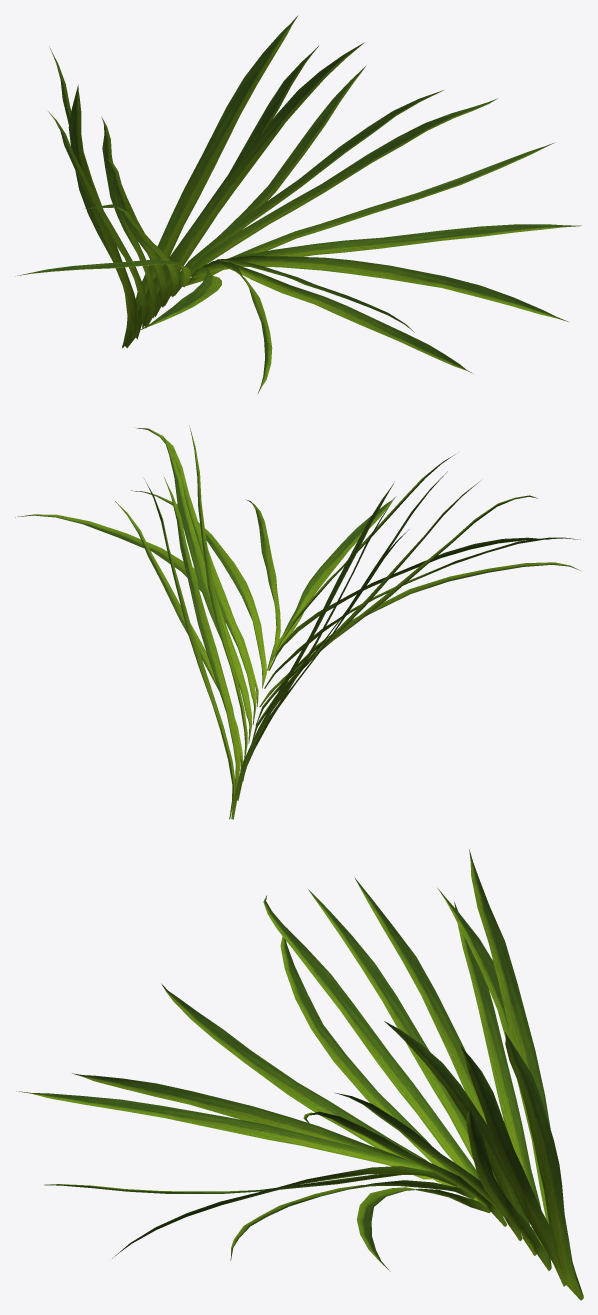
The model's file is tree on treee.fbx.
The picture shows the model from 3 angles, top to bottom: view 1: azimuth 30°, elevation 25°; view 2: azimuth 150°, elevation 25°; view 3: azimuth 270°, elevation 25°; orthographic projection. The views are drawn at different scales.
Parts seen in each view (by area): view 1: polySurface96, polySurface88, polySurface93, polySurface78, polySurface89, polySurface90, polySurface92, polySurface91, polySurface85, polySurface95, polySurface94, polySurface86 (+7 smaller); view 2: polySurface94, polySurface91, polySurface78, polySurface90, polySurface87, polySurface93, polySurface89, polySurface96, polySurface92, polySurface81, polySurface95, polySurface82 (+7 smaller); view 3: polySurface78, polySurface82, polySurface96, polySurface87, polySurface86, polySurface79, polySurface94, polySurface80, polySurface83, polySurface84, polySurface81, polySurface93 (+7 smaller).
Boxes of the visible parts, <box> form: polySurface96: <box>125,16,297,347</box>; polySurface88: <box>215,256,569,322</box>; polySurface93: <box>154,42,364,316</box>; polySurface78: <box>217,259,472,373</box>; polySurface89: <box>208,224,581,272</box>; polySurface90: <box>174,98,497,295</box>; polySurface92: <box>186,142,554,285</box>; polySurface91: <box>164,90,443,306</box>; polySurface85: <box>68,85,138,338</box>; polySurface95: <box>144,65,366,328</box>; polySurface94: <box>135,46,318,339</box>; polySurface86: <box>48,111,148,327</box>; polySurface94: <box>164,477,240,790</box>; polySurface91: <box>162,435,252,743</box>; polySurface78: <box>270,454,455,660</box>; polySurface90: <box>134,427,256,724</box>; polySurface87: <box>231,482,394,819</box>; polySurface93: <box>189,425,247,758</box>; polySurface89: <box>131,490,266,688</box>; polySurface96: <box>144,479,236,819</box>; polySurface92: <box>15,514,258,706</box>; polySurface81: <box>259,562,580,707</box>; polySurface95: <box>115,501,243,771</box>; polySurface82: <box>255,495,538,725</box>; polySurface78: <box>16,1091,432,1193</box>; polySurface82: <box>263,895,479,1180</box>; polySurface96: <box>505,1032,583,1300</box>; polySurface87: <box>469,849,583,1296</box>; polySurface86: <box>454,901,551,1267</box>; polySurface79: <box>72,1073,449,1184</box>; polySurface94: <box>460,1046,565,1286</box>; polySurface80: <box>161,983,473,1198</box>; polySurface83: <box>308,889,518,1239</box>; polySurface84: <box>355,878,533,1255</box>; polySurface81: <box>280,928,486,1206</box>; polySurface93: <box>384,1021,536,1255</box>.
Bounding box in the file's own units: 486 × 295 × 394.
